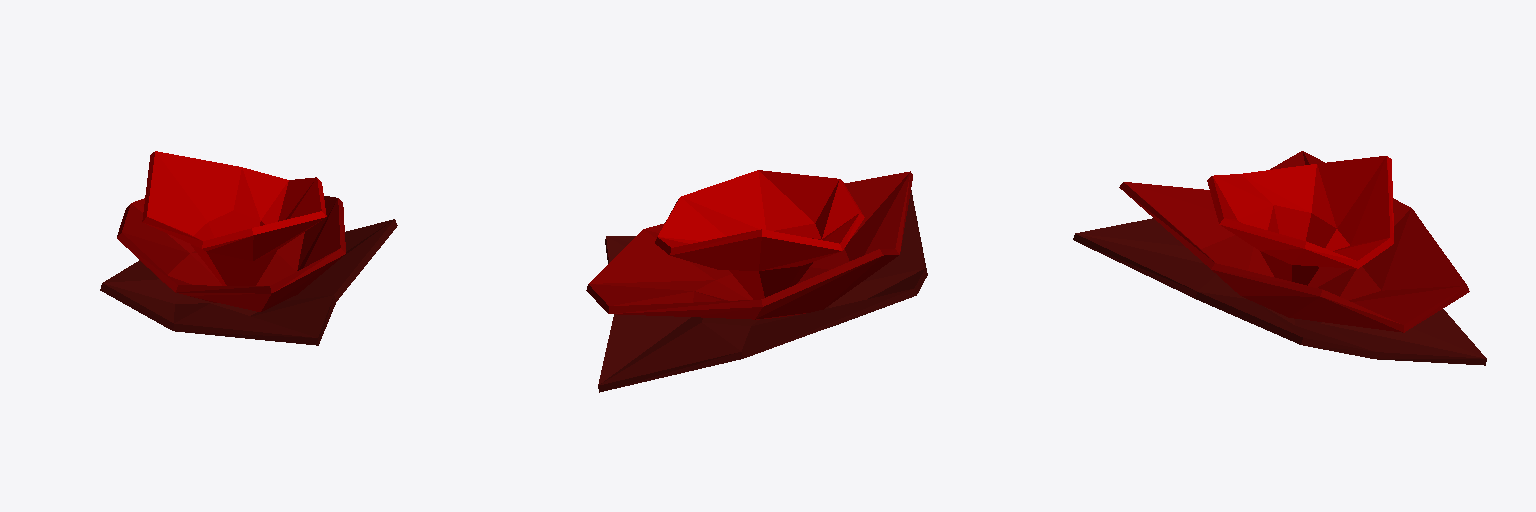
The model's file is FlowerTop.obj.
3 renders of one model, left to right at view 1: azimuth 30°, elevation 25°; view 2: azimuth 150°, elevation 25°; view 3: azimuth 270°, elevation 25°, orthographic.
Parts seen in each view (by area): view 1: Plane.003, Plane.001, Plane.002; view 2: Plane.002, Plane.003, Plane.001; view 3: Plane.002, Plane.003, Plane.001.
Part boxes in pixels (x1,y1,x2,y2): Plane.003: (142,151,326,285); Plane.001: (100,219,397,345); Plane.002: (117,196,345,311); Plane.002: (586,171,912,319); Plane.003: (655,170,864,299); Plane.001: (598,190,927,392); Plane.002: (1119,151,1469,332); Plane.003: (1207,156,1393,285); Plane.001: (1073,218,1486,365).
Size of the model in its own units: 0.6703 by 0.3251 by 0.788.